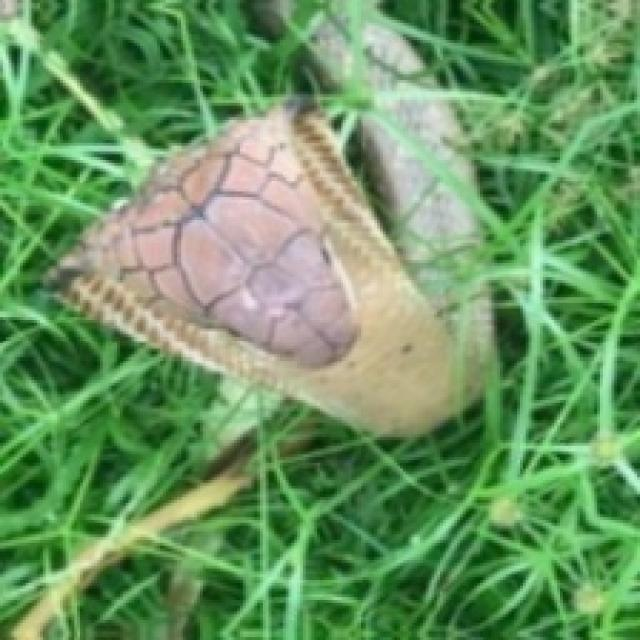king cobra: (49, 97, 491, 434)
